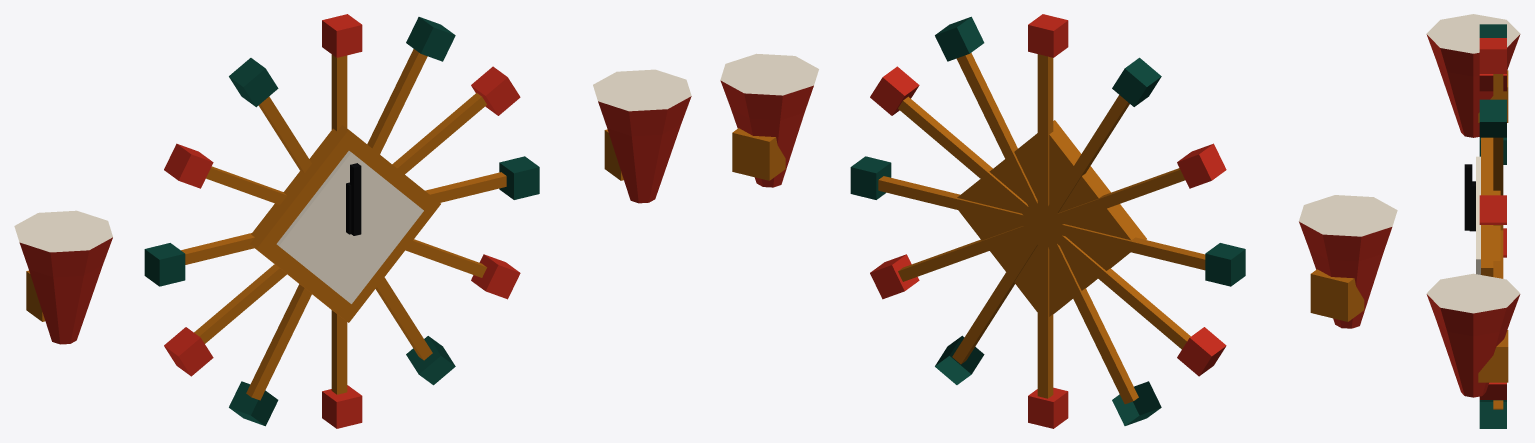
File: cozy_bowling_sputnik_clock.obj
3 renders of one model, left to right at view 1: azimuth 30°, elevation 25°; view 2: azimuth 150°, elevation 25°; view 3: azimuth 270°, elevation 25°, orthographic. The views are drawn at different scales.
Parts seen in each view (by area): view 1: Clock_Mesh; view 2: Clock_Mesh; view 3: Clock_Mesh.
Boxes of the visible parts, box(x1,y1,x2,y2) form: Clock_Mesh: box(14, 14, 691, 428); Clock_Mesh: box(720, 14, 1397, 428); Clock_Mesh: box(1426, 14, 1520, 428).
Bounding box in the file's own units: 1.43 × 0.815 × 0.19.
